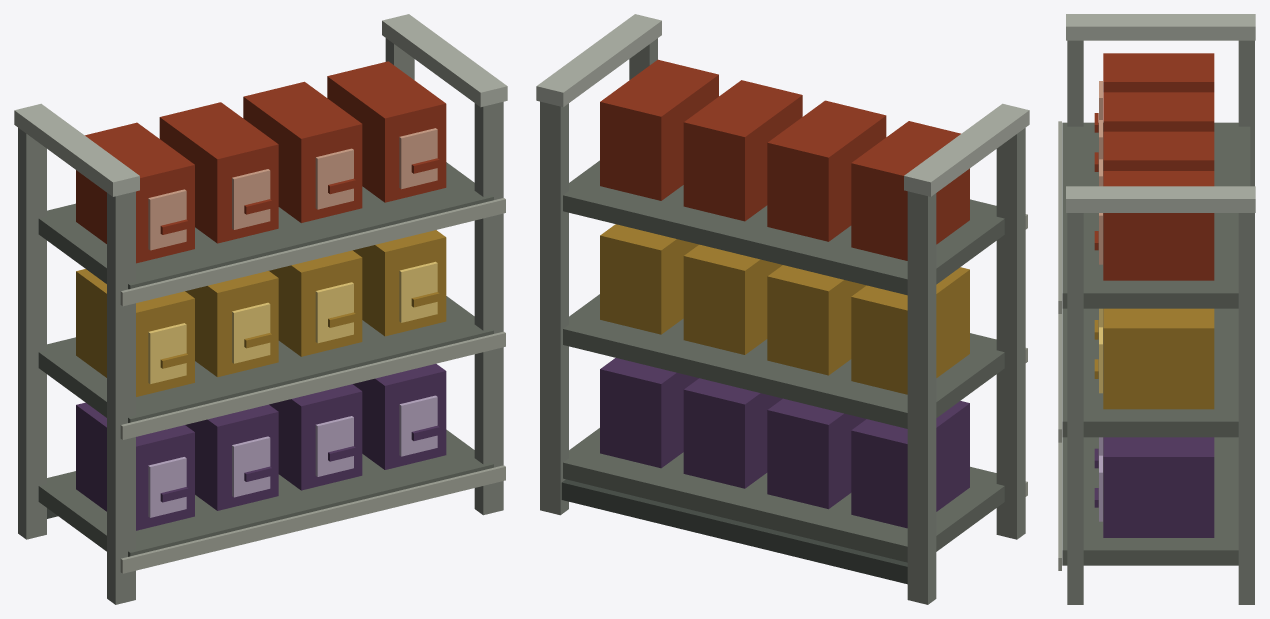
Rendered from CMU3DWeymartShelf5.glb.
The picture shows the model from 3 angles, left to right: view 1: azimuth 30°, elevation 25°; view 2: azimuth 150°, elevation 25°; view 3: azimuth 270°, elevation 25°; orthographic projection. The views are drawn at different scales.
Visible parts, largest first — view 1: product carton (×12), shelf deck (×3), shelf upright (×4), printed product label (×12), shelf pale front lip (×3), top end cap (×2); view 2: product carton (×12), shelf deck (×3), shelf upright (×3), top end cap (×2), rear base stretcher; view 3: product carton (×6), shelf deck (×3), shelf upright (×4), top end cap (×2), shelf pale front lip (×3).
Part boxes in pixels (bbox=[...]): product carton (×12): bbox=[76, 61, 446, 530]; shelf deck (×3): bbox=[38, 162, 493, 556]; shelf upright (×4): bbox=[18, 38, 503, 604]; printed product label (×12): bbox=[148, 128, 437, 517]; shelf pale front lip (×3): bbox=[120, 198, 505, 573]; top end cap (×2): bbox=[14, 14, 507, 196]; product carton (×12): bbox=[600, 59, 969, 528]; shelf deck (×3): bbox=[563, 160, 1004, 562]; shelf upright (×3): bbox=[540, 101, 1025, 604]; top end cap (×2): bbox=[536, 14, 1029, 196]; rear base stretcher: bbox=[561, 479, 907, 584]; product carton (×6): bbox=[1103, 53, 1214, 537]; shelf deck (×3): bbox=[1062, 122, 1250, 565]; shelf upright (×4): bbox=[1067, 40, 1254, 604]; top end cap (×2): bbox=[1066, 14, 1255, 212]; shelf pale front lip (×3): bbox=[1058, 121, 1061, 570].
Bounding box in the file's own units: 0.966 × 0.9914 × 0.4356.
